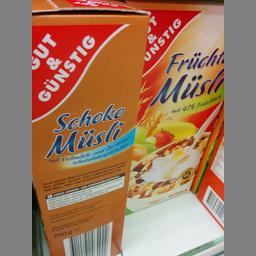cereal: (32, 9, 147, 255), (125, 2, 224, 212)
